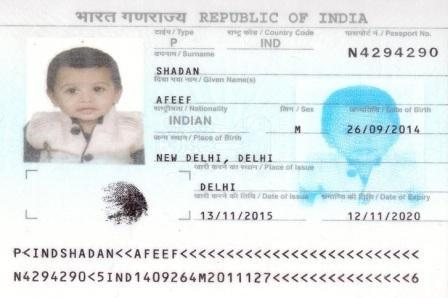DOB: (342, 122, 420, 135)
Surname: (158, 62, 197, 77)
country_code: (257, 37, 284, 51)
date_of_expiry: (342, 207, 420, 221)
date_of_issue: (202, 209, 283, 222)
details: (7, 241, 430, 293)
name: (151, 91, 238, 105)
nationality: (154, 112, 248, 129)
passport_no: (342, 42, 439, 61)
photo: (20, 32, 150, 162)
place_of_birth: (155, 148, 301, 165)
place_of_issue: (199, 178, 248, 192)
sex: (291, 122, 306, 134)
type: (163, 36, 182, 51)
